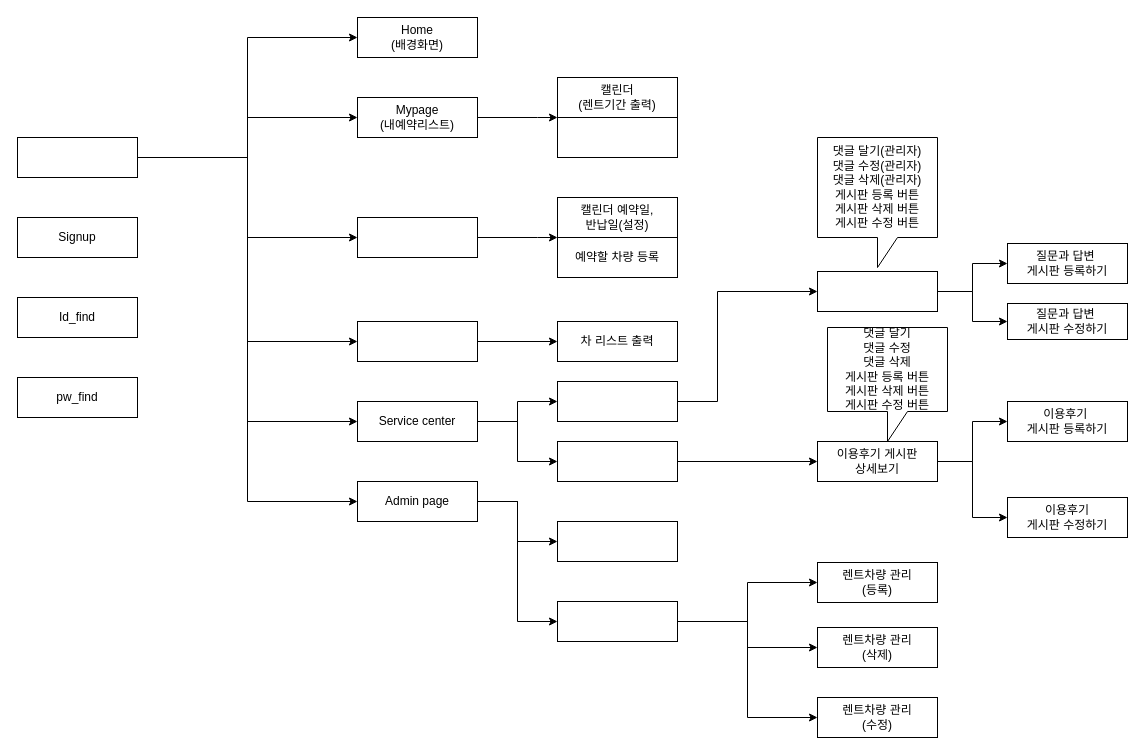
The diagram is 1145 pixels wide and 755 high, and some of its shapes have lost their labels. Each missing label, with the box of its shape:
Car info: (356, 320, 478, 362)
Login: (16, 136, 138, 178)
Reservation (예약하기): (356, 216, 478, 258)
렌트차량 관리 (등록/삭제/수정): (556, 600, 678, 642)
렌트차량 확인: (556, 116, 678, 158)
예약현황 리스트 (예약자 리스트) 출력: (556, 520, 678, 562)
이용후기 게시판: (556, 440, 678, 482)
질문과 답변 게시판: (556, 380, 678, 422)
질문과 답변 게시판 상세보기: (816, 270, 938, 312)
